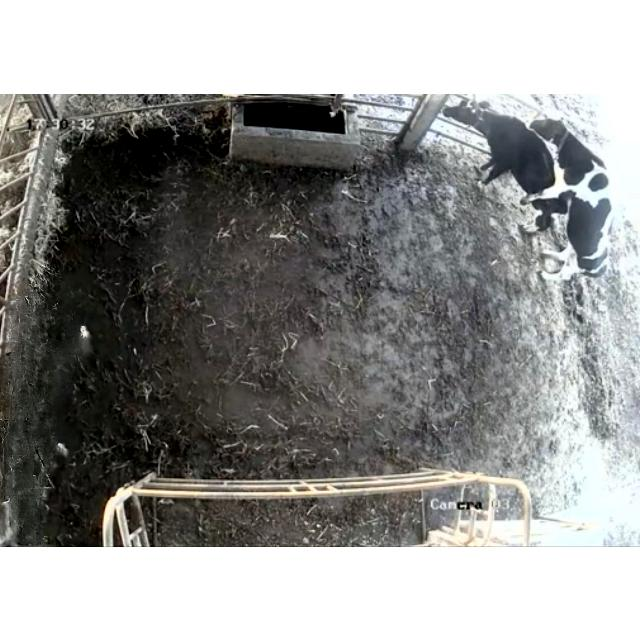ride: (521, 118, 613, 279)
